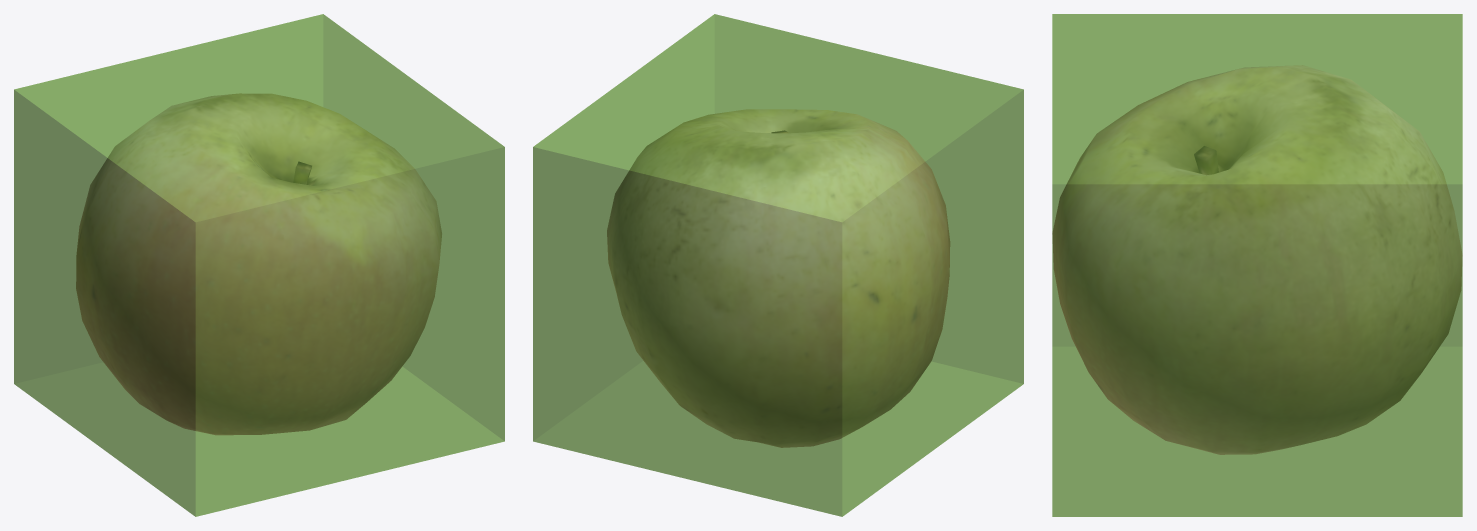
The model's file is pg_AppleRed_02.fbx.
3 views of the same model, side by side, from view 1: azimuth 30°, elevation 25°; view 2: azimuth 150°, elevation 25°; view 3: azimuth 270°, elevation 25° (orthographic). The views are drawn at different scales.
Parts seen in each view (by area): view 1: pg_AppleRed_02_col, pg_AppleRed_02_LOD0; view 2: pg_AppleRed_02_col, pg_AppleRed_02_LOD0; view 3: pg_AppleRed_02_col, pg_AppleRed_02_LOD0.
Boxes of the visible parts, bbox=[...] form: pg_AppleRed_02_col: bbox=[14, 14, 504, 516]; pg_AppleRed_02_LOD0: bbox=[76, 93, 441, 435]; pg_AppleRed_02_col: bbox=[533, 14, 1023, 516]; pg_AppleRed_02_LOD0: bbox=[607, 109, 950, 447]; pg_AppleRed_02_col: bbox=[1052, 14, 1462, 516]; pg_AppleRed_02_LOD0: bbox=[1052, 65, 1462, 454].
Size of what is drawn, in the model's own units: 8.78 by 7.98 by 8.92.
